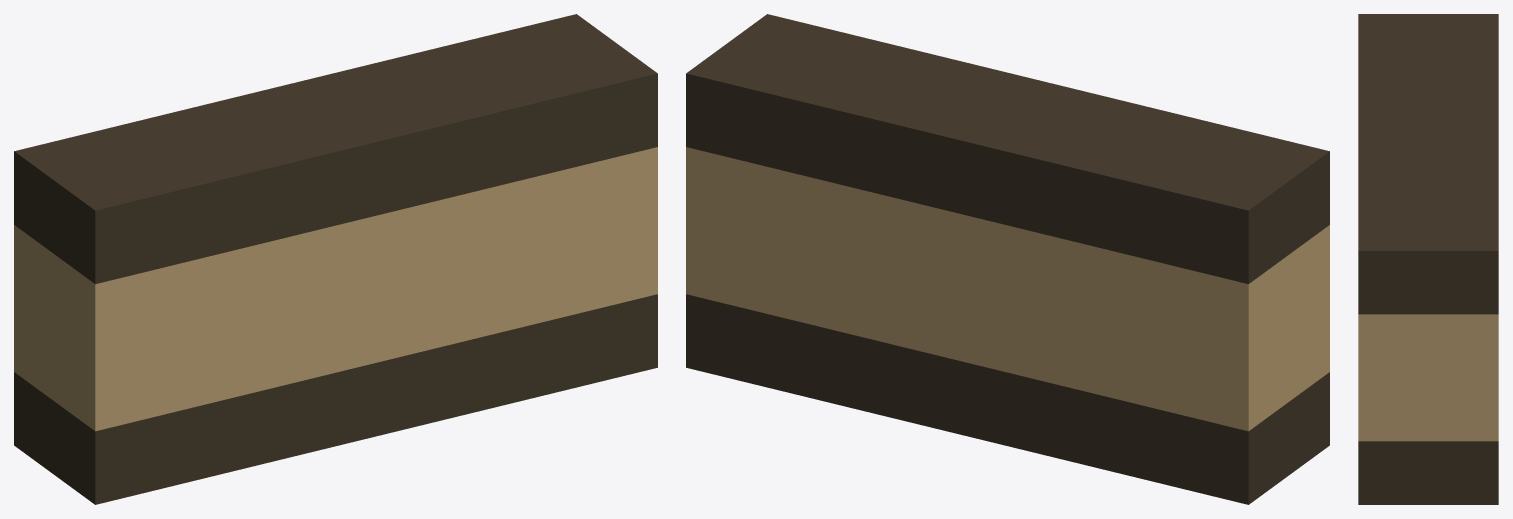
The model's file is cartridge_box_308_h_winchester.glb.
3 views of the same model, side by side, from view 1: azimuth 30°, elevation 25°; view 2: azimuth 150°, elevation 25°; view 3: azimuth 270°, elevation 25° (orthographic). The views are drawn at different scales.
Visible parts, largest first — view 1: package:carton; view 2: package:carton; view 3: package:carton.
Boxes of the visible parts, <box> form: package:carton: <box>14,14,657,504</box>; package:carton: <box>686,14,1329,504</box>; package:carton: <box>1358,14,1498,504</box>.
Bounding box in the file's own units: 0.16 × 0.08 × 0.04.
